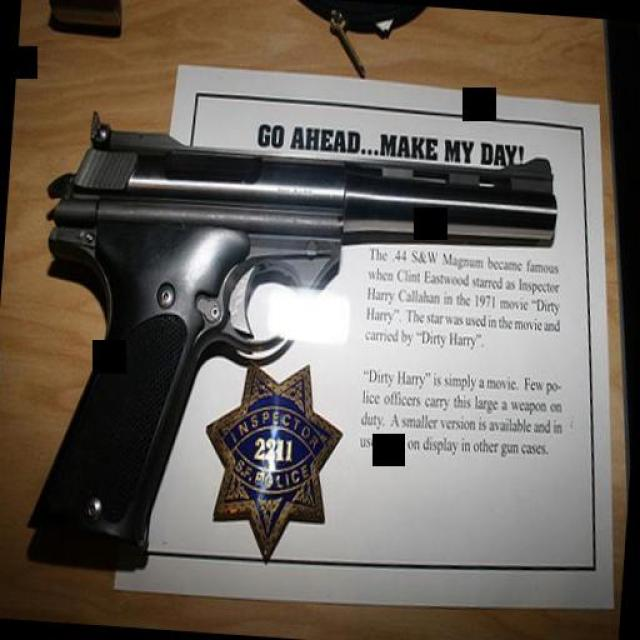gun: (18, 104, 564, 596)
